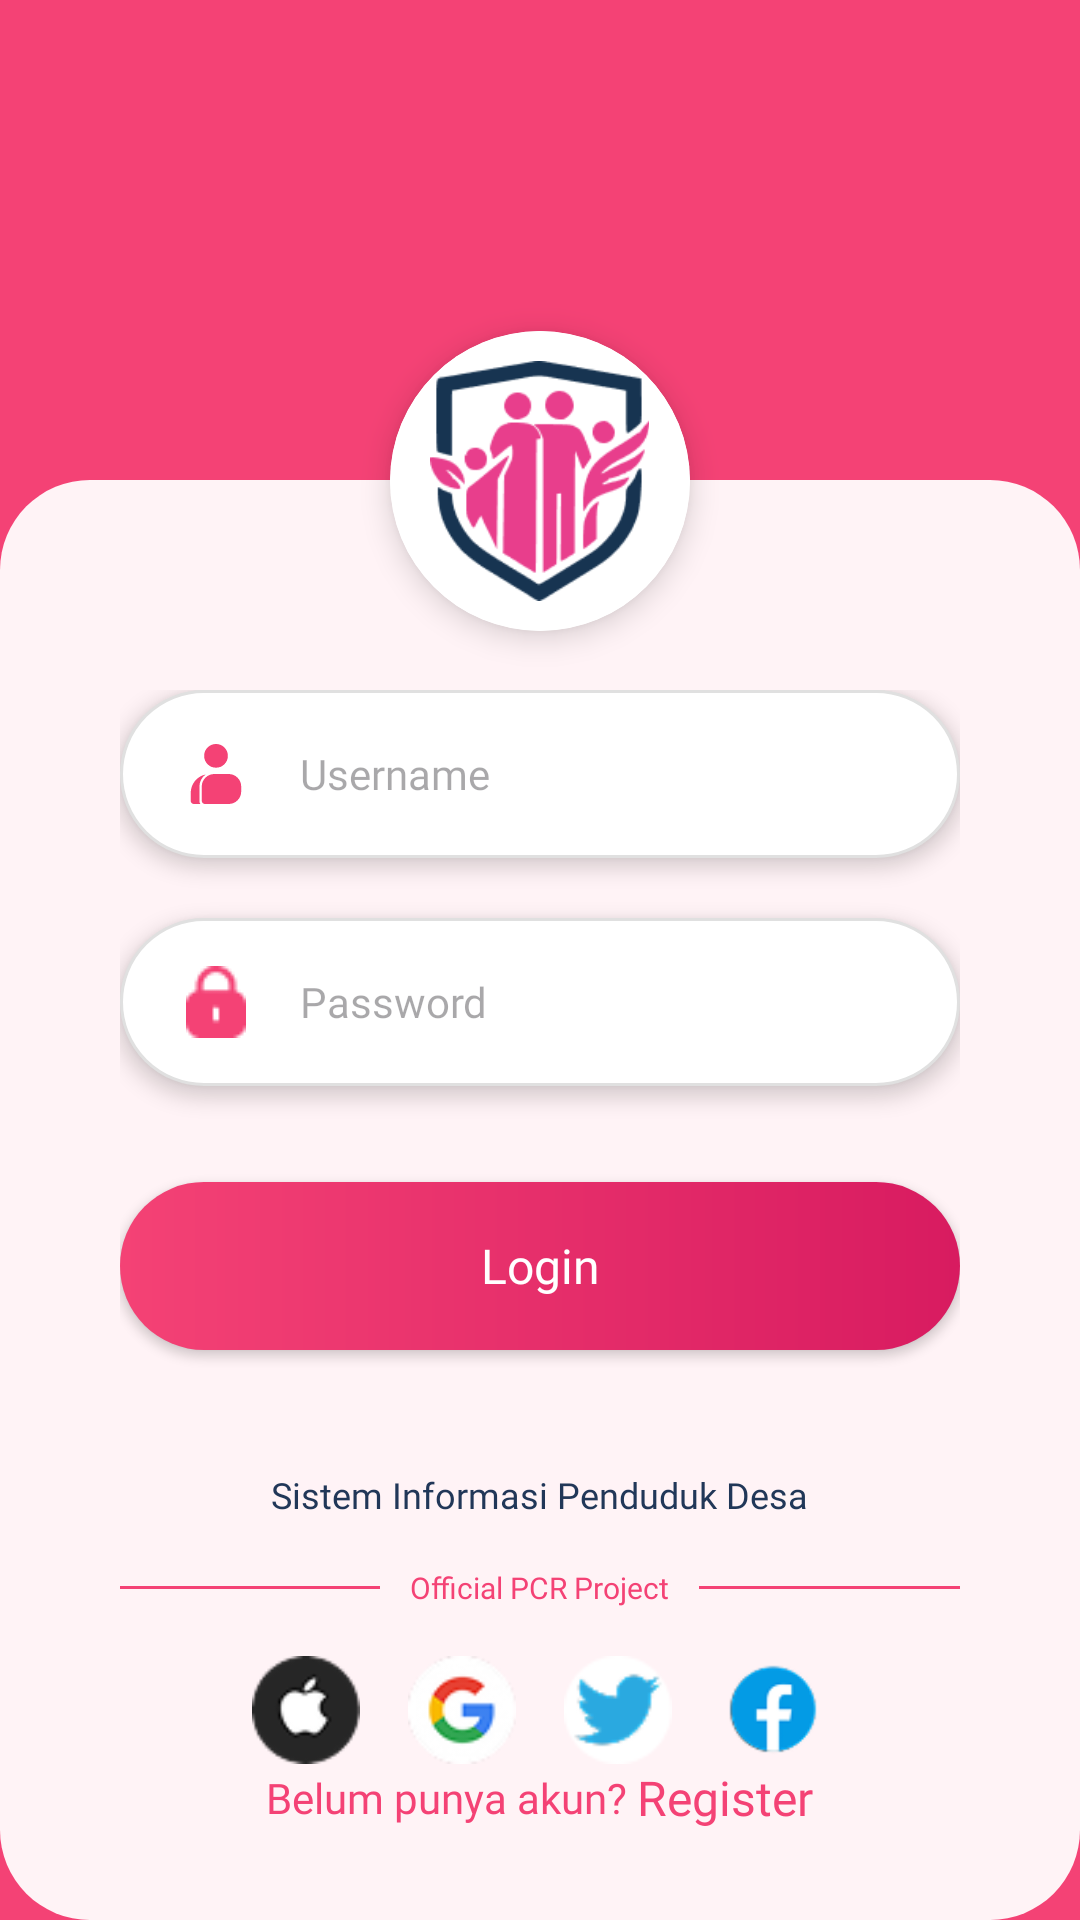

Icon click points for this 1080×1920 phone screenshot, format [x,y]:
lock: [216,1002]
profile: [216,774]
